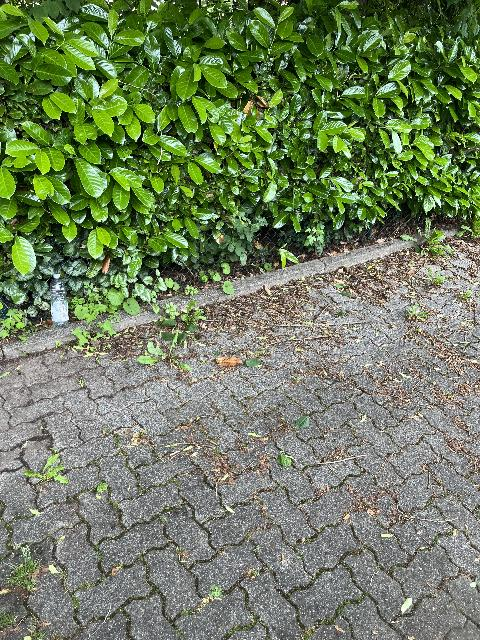plastic_bottle: (48, 272, 71, 331)
